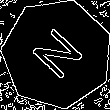N_SE: (25, 22, 89, 86)
